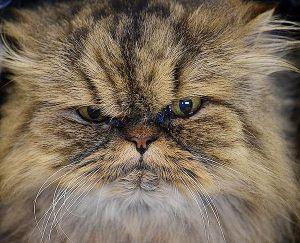persian: (1, 1, 300, 243)
